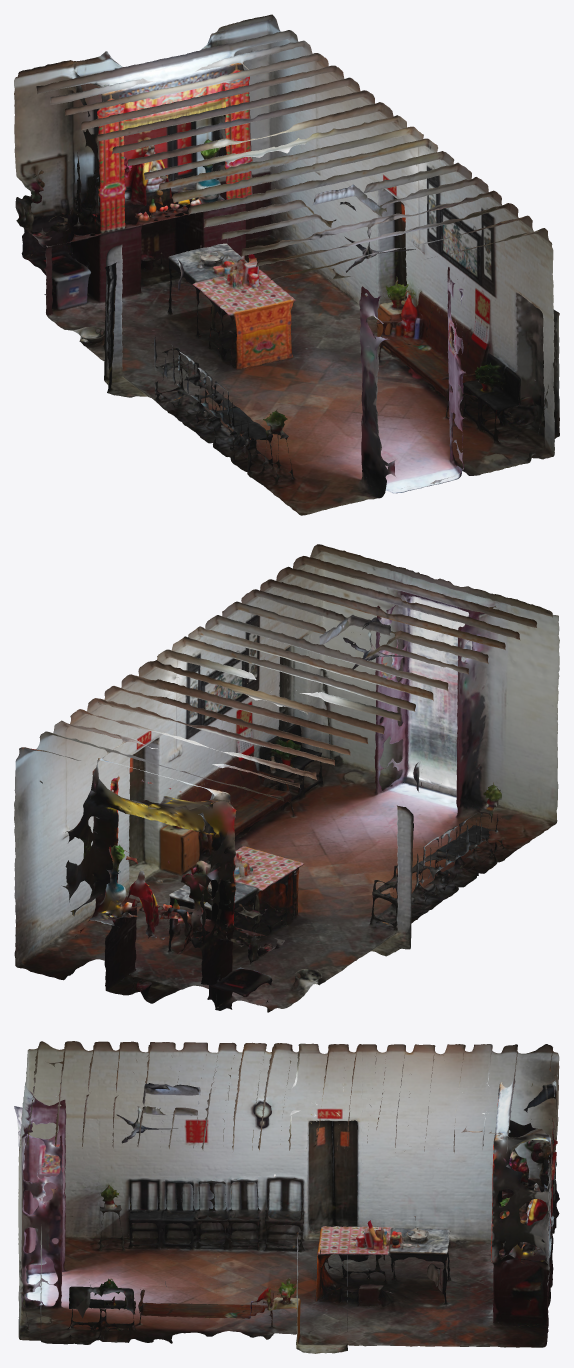
The picture shows the model from 3 angles, top to bottom: view 1: azimuth 30°, elevation 25°; view 2: azimuth 150°, elevation 25°; view 3: azimuth 270°, elevation 25°; orthographic projection. The views are drawn at different scales.
Parts seen in each view (by area): view 1: Object_3, Object_4, Object_2, Object_5, Object_6; view 2: Object_4, Object_3, Object_2, Object_5, Object_6; view 3: Object_2, Object_3, Object_4, Object_5, Object_6.
Boxes of the visible parts, left/top/right/bottom form: Object_3: left=14, top=14, right=559, bottom=494; Object_4: left=23, top=30, right=559, bottom=515; Object_2: left=14, top=18, right=537, bottom=483; Object_5: left=14, top=29, right=536, bottom=493; Object_6: left=144, top=187, right=554, bottom=509; Object_4: left=27, top=544, right=559, bottom=1012; Object_3: left=14, top=588, right=559, bottom=988; Object_2: left=14, top=559, right=541, bottom=1010; Object_5: left=26, top=563, right=559, bottom=968; Object_6: left=68, top=633, right=557, bottom=998; Object_2: left=14, top=1043, right=559, bottom=1353; Object_3: left=17, top=1041, right=559, bottom=1353; Object_4: left=18, top=1042, right=557, bottom=1344; Object_5: left=14, top=1041, right=558, bottom=1350; Object_6: left=19, top=1041, right=540, bottom=1351.
Size of the model in its own units: 11.92 by 8.69 by 20.75.
Materials: 1 (1 with a texture image).
